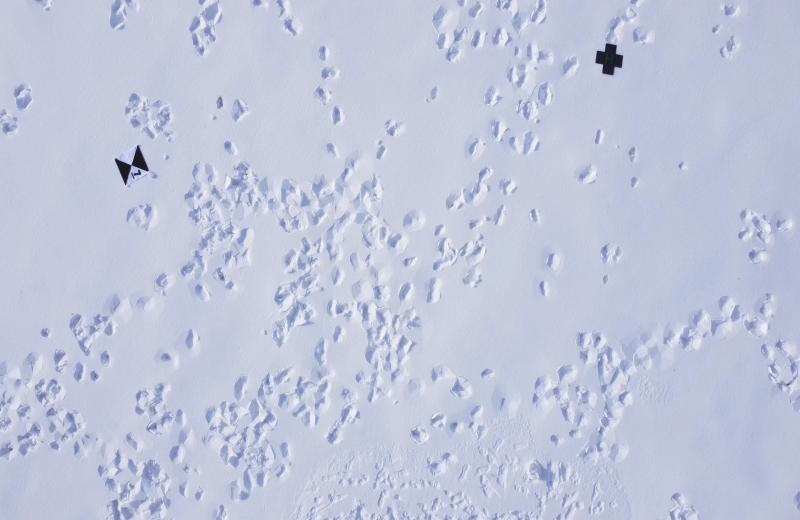Cross: (594, 41, 626, 78)
